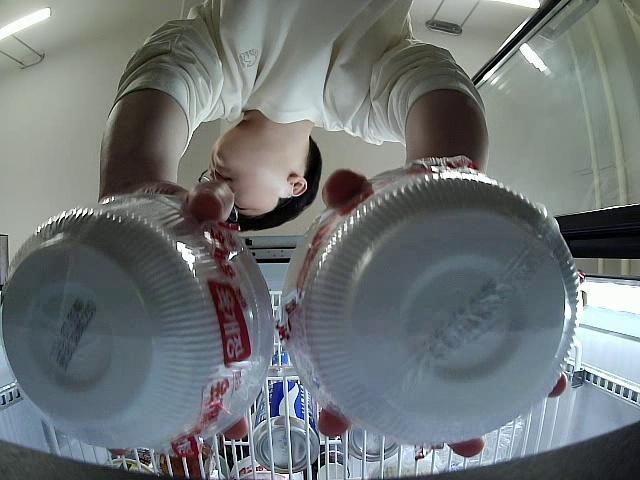09_yukGaeJang: (283, 156, 580, 448), (0, 189, 276, 453)
